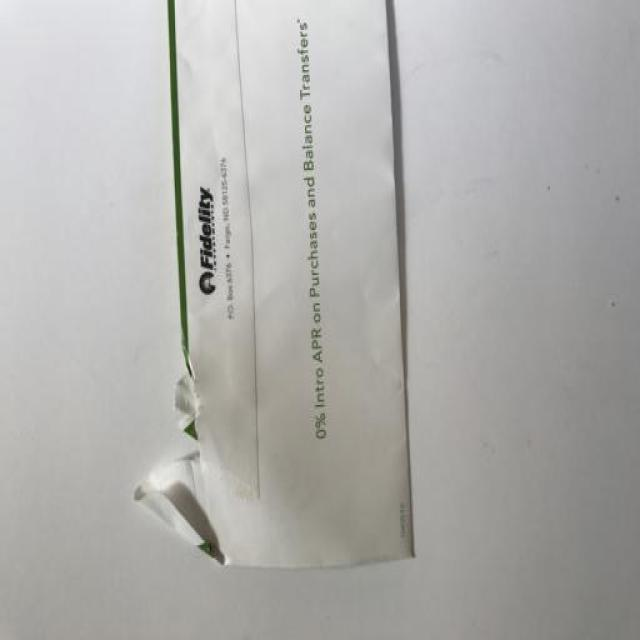paper: (137, 0, 416, 568)
